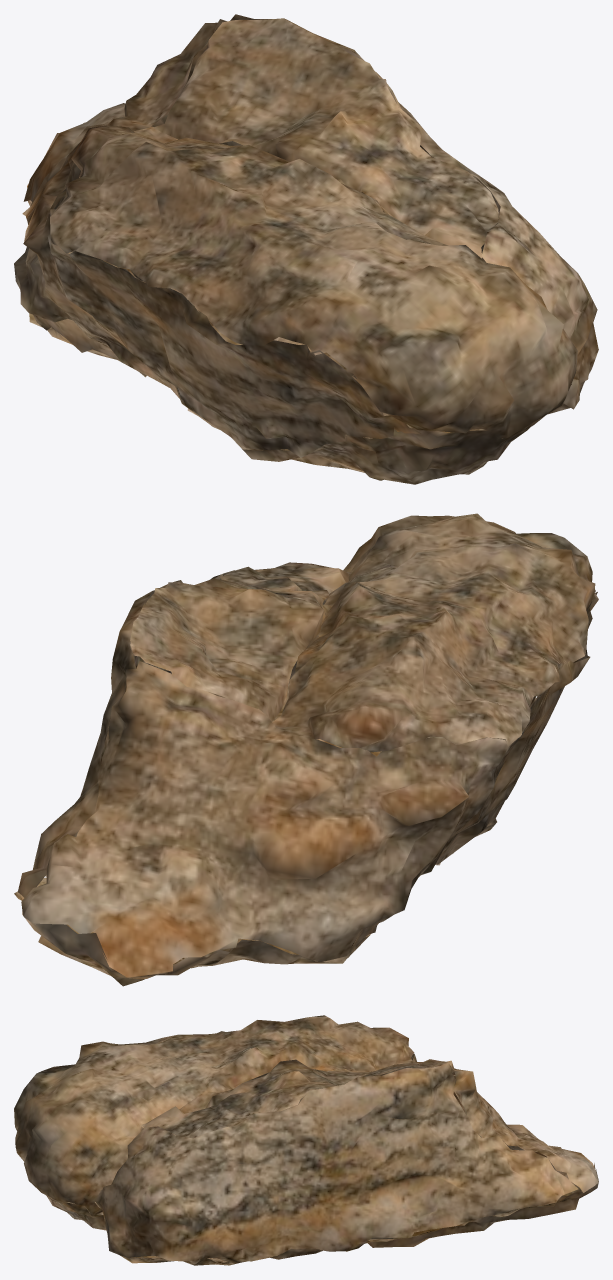
Rendered from namaqualand_boulders_01_a.gltf.lod.glb.
3 renders of one model, top to bottom at view 1: azimuth 30°, elevation 25°; view 2: azimuth 150°, elevation 25°; view 3: azimuth 270°, elevation 25°, orthographic. The views are drawn at different scales.
Visible parts, largest first — view 1: namaqualand_rocks_01_b; view 2: namaqualand_rocks_01_b; view 3: namaqualand_rocks_01_b.
Boxes of the visible parts, <box> form: namaqualand_rocks_01_b: <box>14,14,598,484</box>; namaqualand_rocks_01_b: <box>14,513,598,986</box>; namaqualand_rocks_01_b: <box>14,1015,598,1265</box>.
Size of the model in its own units: 0.3413 by 0.2108 by 0.5829.
Materials: 1 (1 with a texture image).
